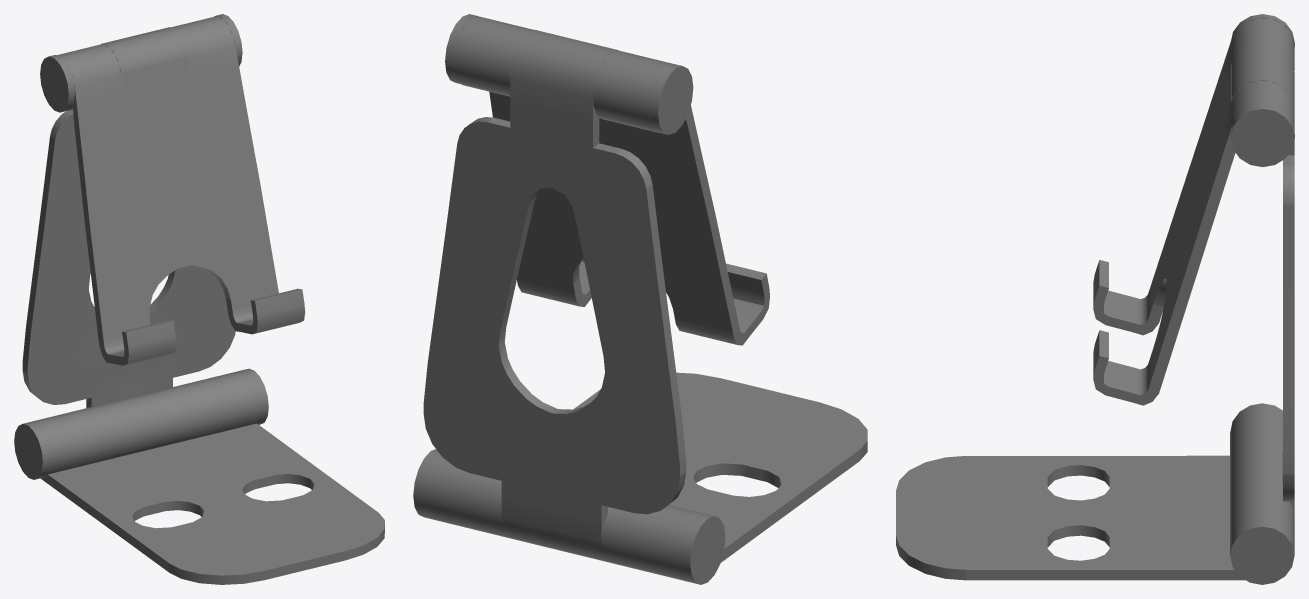
Rendered from mobileStand.glb.
The picture shows the model from 3 angles, left to right: view 1: azimuth 30°, elevation 25°; view 2: azimuth 150°, elevation 25°; view 3: azimuth 270°, elevation 25°; orthographic projection. The views are drawn at different scales.
Parts seen in each view (by area): view 1: phone_holder, stand_frame, middle_body, nurb, nurb_1; view 2: middle_body, phone_holder, stand_frame, nurb, nurb_1; view 3: stand_frame, phone_holder, middle_body, nurb, nurb_1.
Boxes of the visible parts, x1,y1,x2,y2 form: phone_holder: (57, 16, 305, 365); stand_frame: (32, 370, 384, 584); middle_body: (22, 27, 235, 458); nurb: (14, 368, 268, 479); nurb_1: (40, 14, 242, 112); middle_body: (423, 30, 686, 562); phone_holder: (453, 16, 769, 345); stand_frame: (423, 372, 867, 581); nurb: (413, 449, 725, 584); nurb_1: (445, 14, 693, 134); stand_frame: (896, 408, 1294, 580); phone_holder: (1093, 18, 1294, 405); middle_body: (1230, 43, 1294, 515); nurb: (1230, 403, 1294, 584); nurb_1: (1230, 14, 1294, 167).
Bounding box in the file's own units: 0.8331 × 1.47 × 1.14.
1 material, 1 textured.
